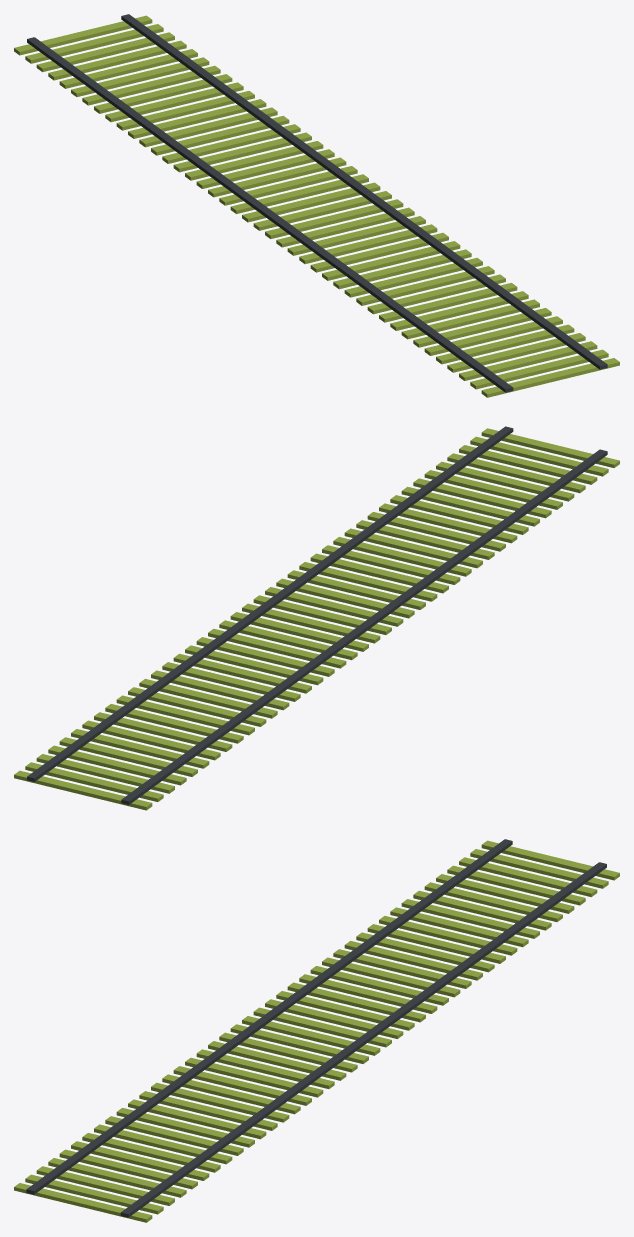
Rendered from Railway_01.fbx.
3 views of the same model, one above another, from view 1: azimuth 30°, elevation 25°; view 2: azimuth 150°, elevation 25°; view 3: azimuth 330°, elevation 25° (orthographic).
Visible parts, largest first — view 1: Railway_01; view 2: Railway_01; view 3: Railway_01.
Boxes of the visible parts, box(x1,y1,x2,y2) form: Railway_01: box(14, 14, 619, 397); Railway_01: box(14, 426, 619, 810); Railway_01: box(14, 839, 619, 1222).
Bounding box in the file's own units: 3.2 × 0.1605 × 20.
